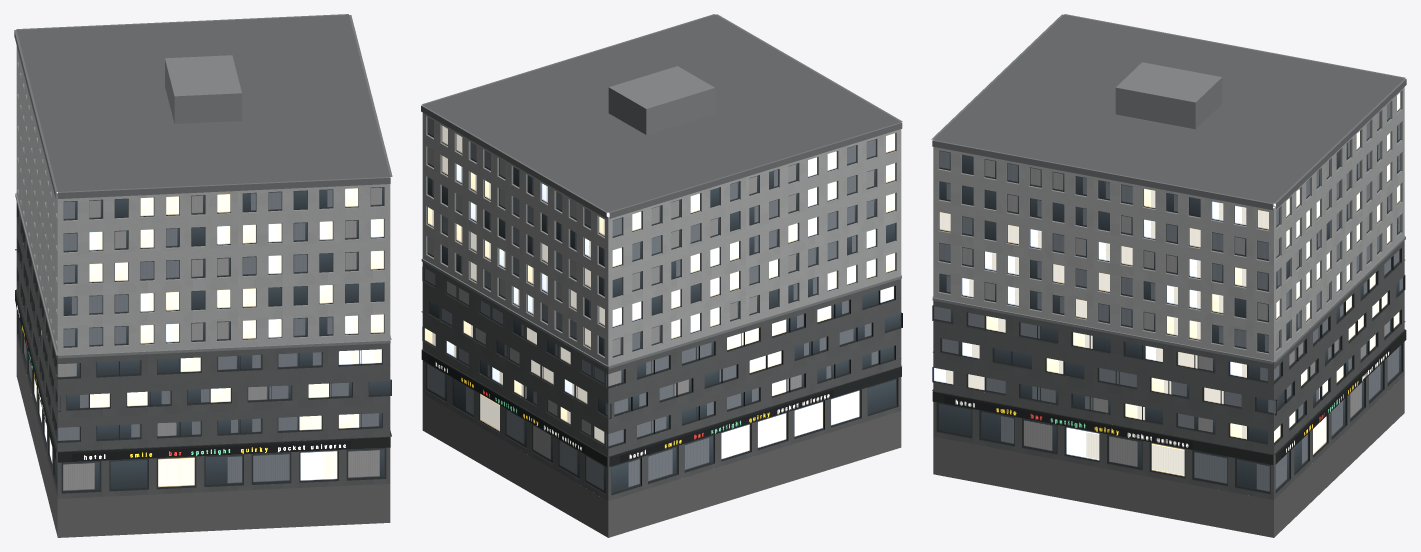
Rendered from hotel25.glb.
The picture shows the model from 3 angles, left to right: view 1: azimuth 30°, elevation 25°; view 2: azimuth 150°, elevation 25°; view 3: azimuth 270°, elevation 25°; orthographic projection. The views are drawn at different scales.
Parts seen in each view (by area): view 1: hotel25; view 2: hotel25; view 3: hotel25.
Boxes of the visible parts, x1,y1,x2,y2 form: hotel25: (14,14,392,537); hotel25: (421,14,902,537); hotel25: (931,14,1406,537).
Size of the model in its own units: 41.13 by 36.4 by 43.43.
3 materials, 3 textured.
